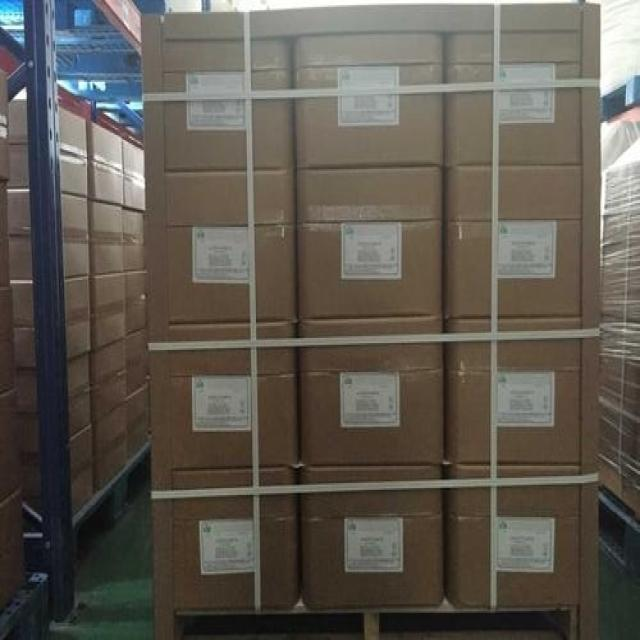box: (297, 168, 442, 318), (443, 165, 581, 319), (300, 316, 443, 464), (301, 465, 445, 608), (164, 170, 296, 322), (296, 34, 443, 168), (446, 318, 580, 463), (169, 321, 298, 469), (442, 31, 580, 167), (448, 466, 580, 607), (173, 467, 300, 608), (163, 40, 295, 170), (93, 400, 128, 491), (87, 120, 123, 206), (90, 338, 127, 421), (91, 272, 125, 351), (60, 107, 88, 197), (89, 201, 123, 273), (61, 194, 90, 278), (6, 189, 32, 280), (64, 276, 90, 360), (10, 282, 35, 368), (6, 100, 30, 188), (71, 424, 93, 517), (67, 353, 90, 436), (16, 369, 38, 453), (122, 139, 145, 211), (128, 382, 148, 460), (126, 328, 147, 398), (125, 271, 146, 336), (123, 209, 145, 270)
